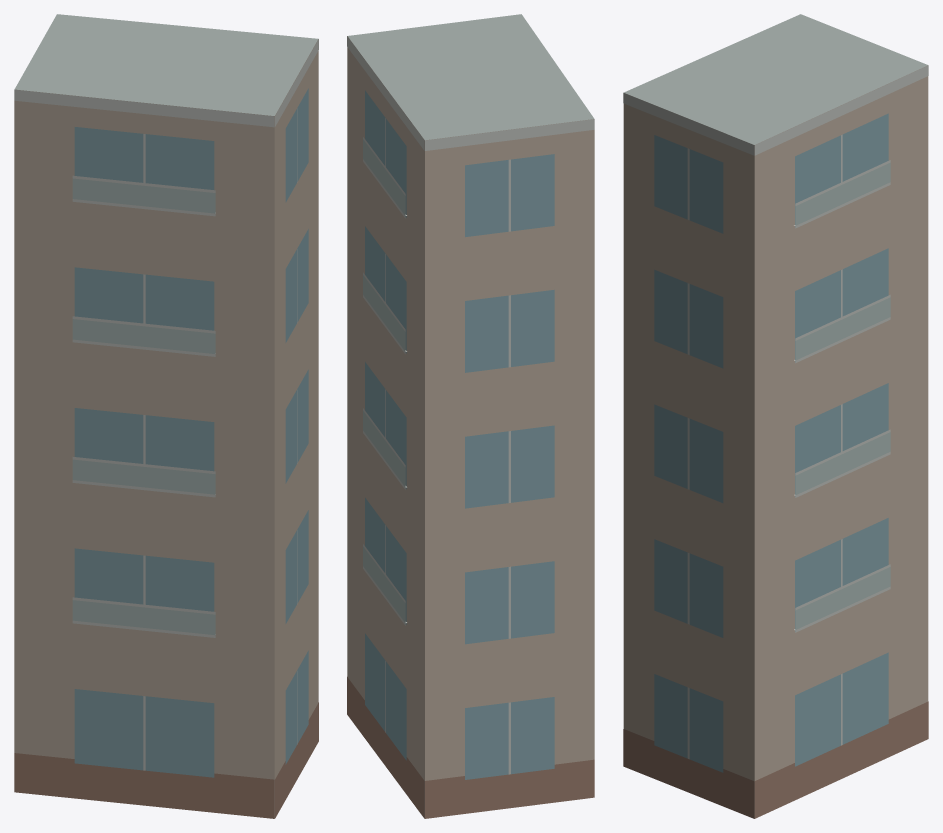
File: survey-upis-32641292.glb
3 views of the same model, side by side, from view 1: azimuth 30°, elevation 25°; view 2: azimuth 150°, elevation 25°; view 3: azimuth 270°, elevation 25° (orthographic). The views are drawn at different scales.
Visible parts, largest first — view 1: survey-upis-32641292.tmp; view 2: survey-upis-32641292.tmp; view 3: survey-upis-32641292.tmp.
Part boxes in pixels (x1=…): survey-upis-32641292.tmp: x1=14, y1=14, x2=318, y2=818; survey-upis-32641292.tmp: x1=347, y1=14, x2=594, y2=818; survey-upis-32641292.tmp: x1=623, y1=14, x2=928, y2=818.
Bounding box in the file's own units: 6.37 × 15.25 × 6.26.
